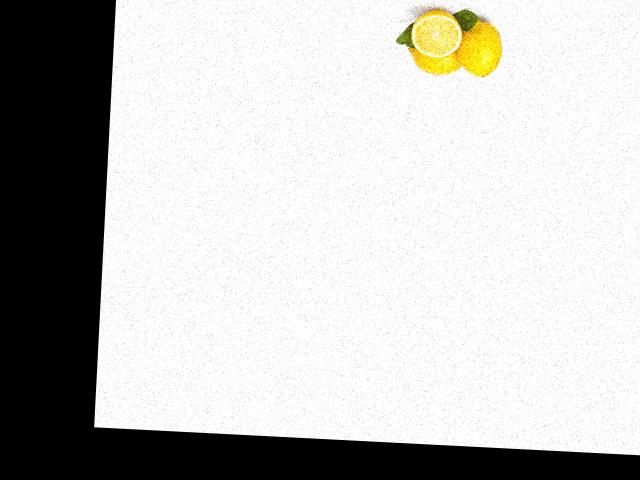lemon: (402, 40, 460, 79)
